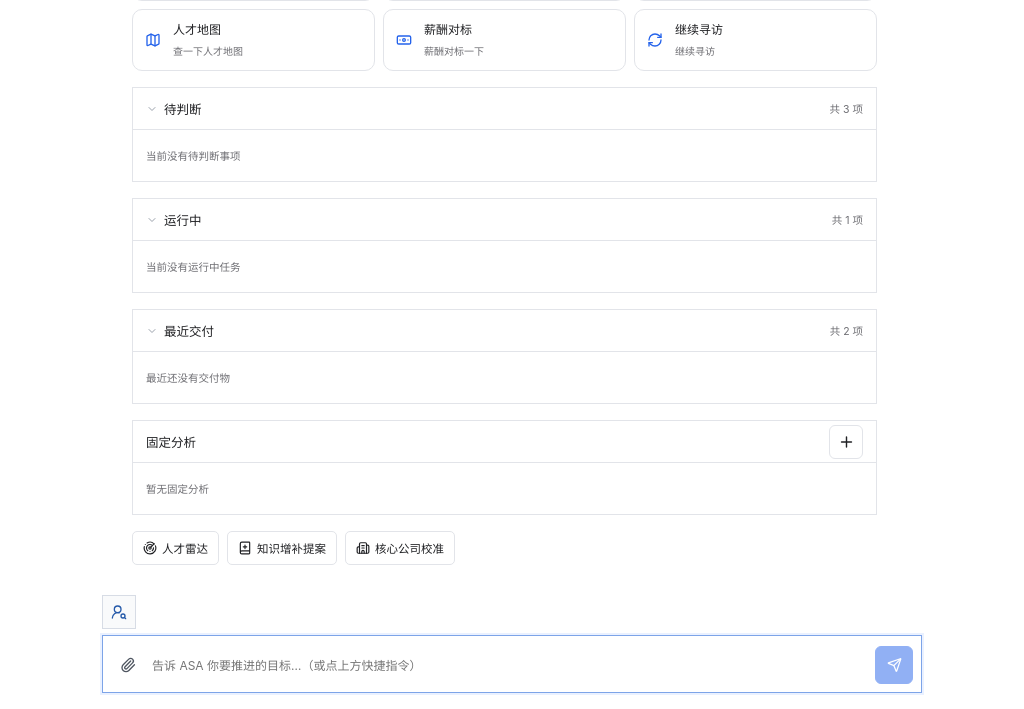
Test: Agent workspace › 候选人待确认卡携带一次性预检信息直达确认端点
(page scrolled)
Type "这个人选复核通过" into the text box named "Agent 消息" at [510, 667], box left=152, top=650, right=868, bottom=684
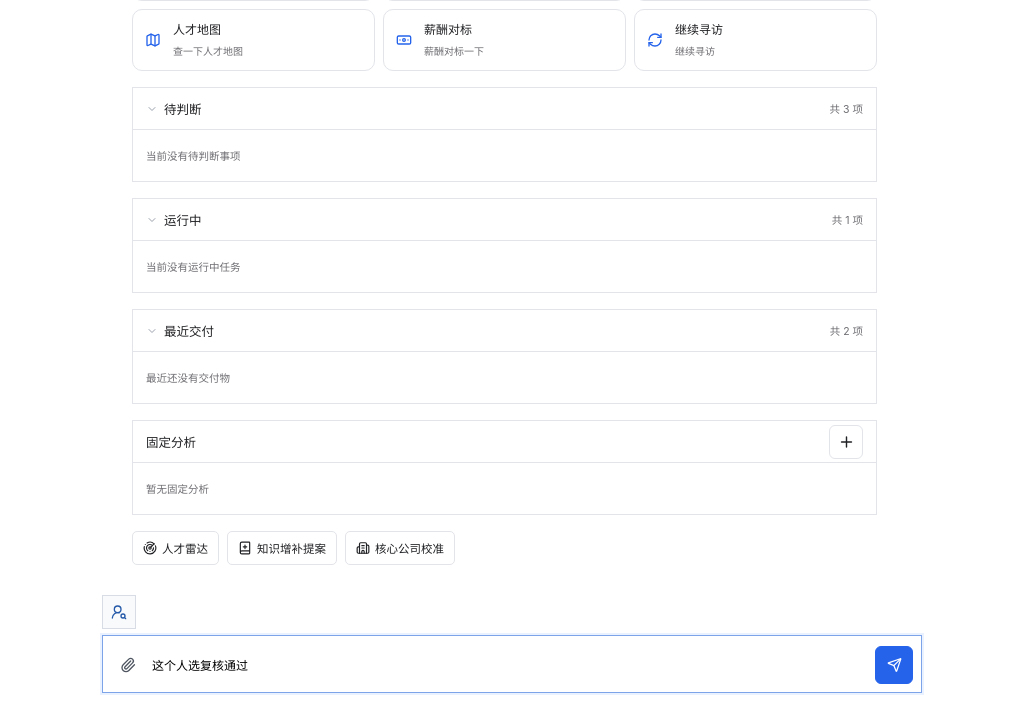
Click the button named "发送" at [894, 665], box left=875, top=646, right=913, bottom=684
(page scrolled)
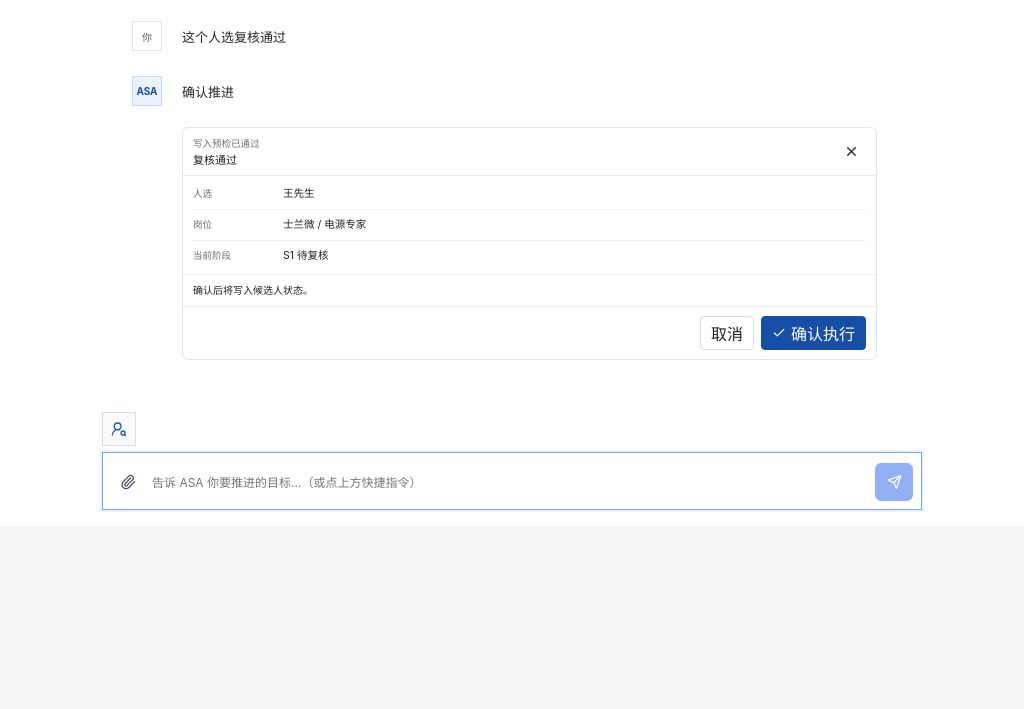
Click the button "确认执行" at [814, 333], box left=761, top=316, right=866, bottom=350
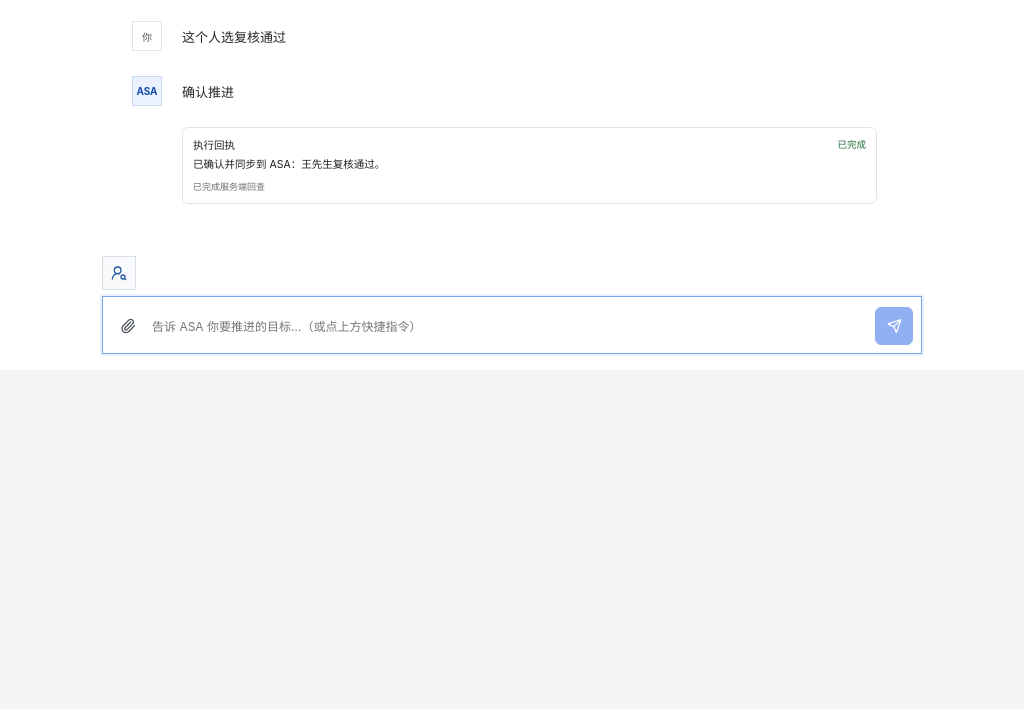
Result: the element named "候选人执行回执" shows "已完成服务端回查" at left=193, top=181, right=265, bottom=192
